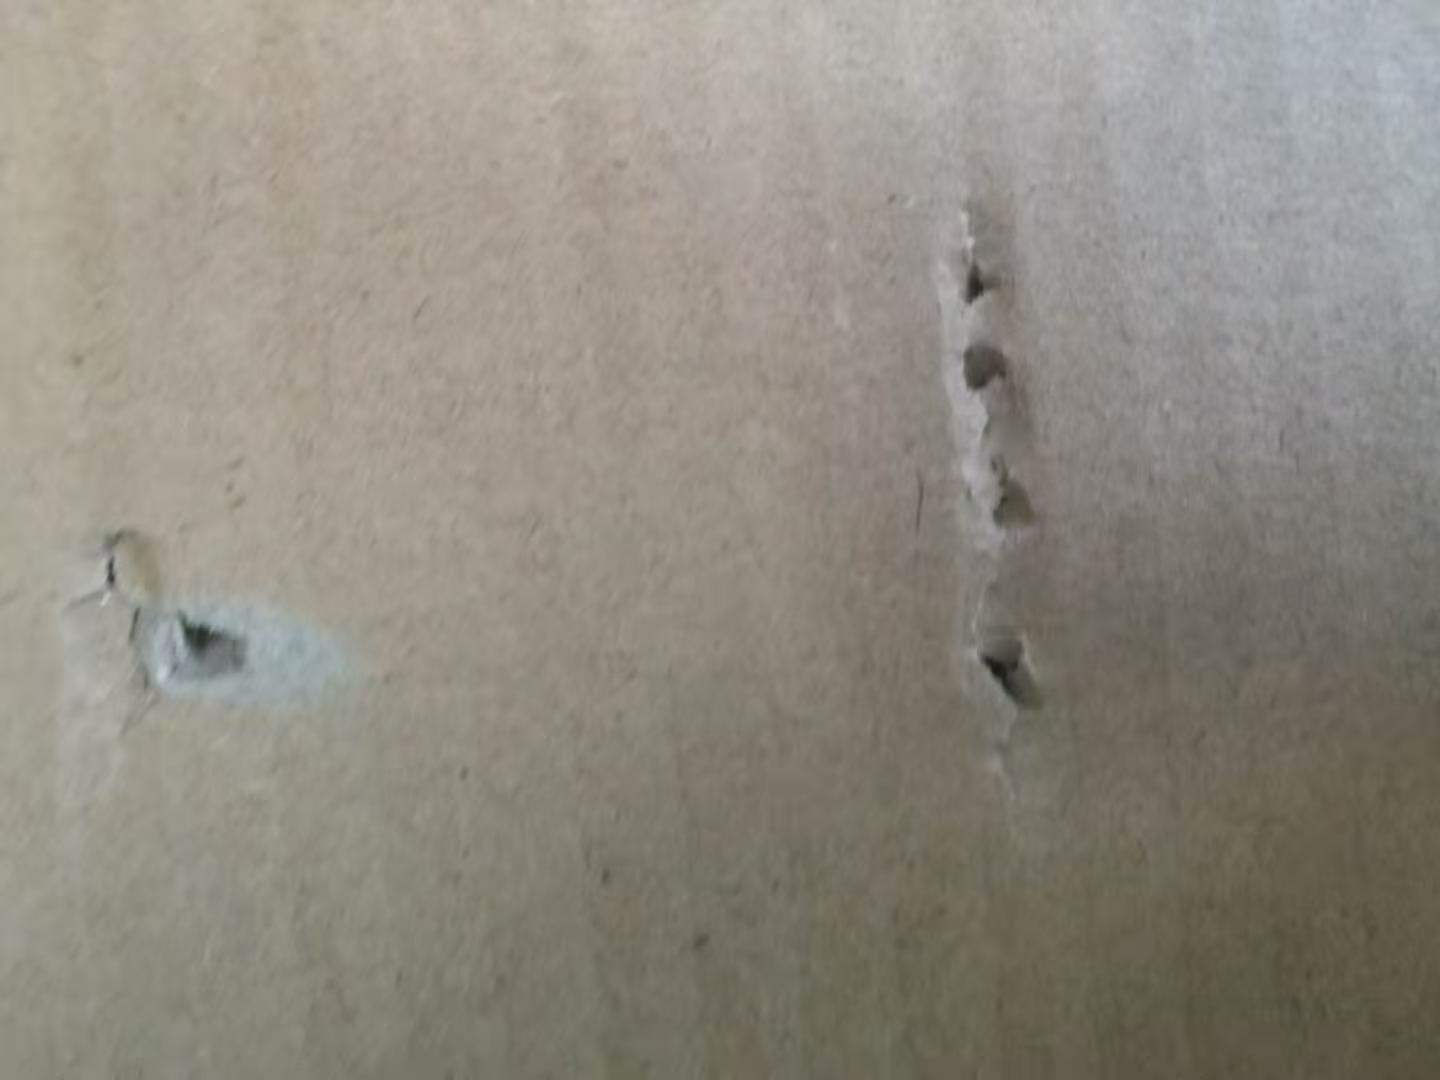defect: (852, 166, 1110, 880), (18, 489, 409, 819)
